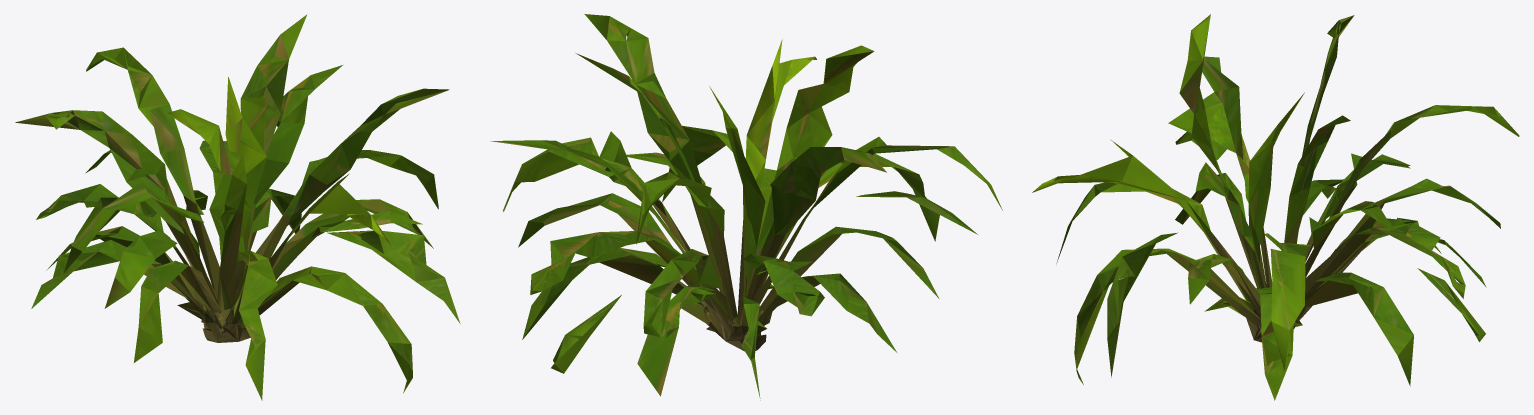
File: VEG_HelechoTropical_02_LOD1.fbx
3 views of the same model, side by side, from view 1: azimuth 30°, elevation 25°; view 2: azimuth 150°, elevation 25°; view 3: azimuth 270°, elevation 25° (orthographic). The views are drawn at different scales.
Parts seen in each view (by area): view 1: VEG_HelechoTropical_02_Mesh000; view 2: VEG_HelechoTropical_02_Mesh000; view 3: VEG_HelechoTropical_02_Mesh000.
Part boxes in pixels (x1=…): VEG_HelechoTropical_02_Mesh000: x1=15, y1=14, x2=460, y2=400; VEG_HelechoTropical_02_Mesh000: x1=490, y1=14, x2=1002, y2=400; VEG_HelechoTropical_02_Mesh000: x1=1032, y1=14, x2=1519, y2=400.
Size of the model in its own units: 1.88 by 1.2 by 1.85.
